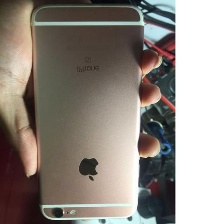phone: (26, 0, 146, 222)
